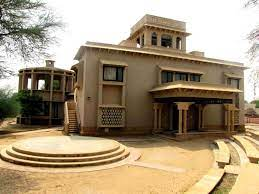Mud House: (13, 13, 248, 151)
